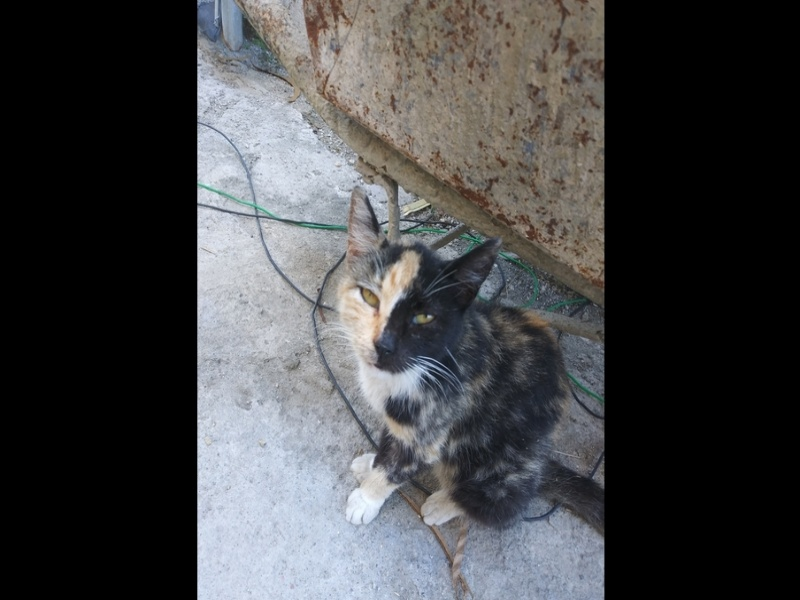cat: (318, 191, 573, 532)
